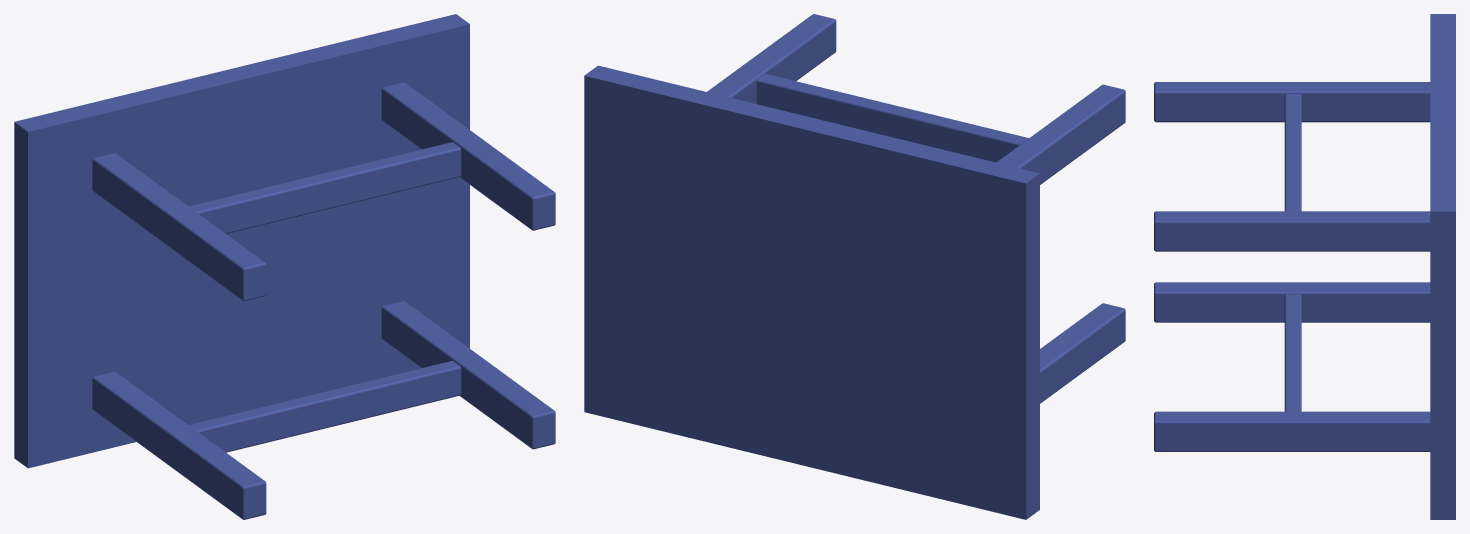
File: VIS_Table_11_2.dae
3 views of the same model, side by side, from view 1: azimuth 30°, elevation 25°; view 2: azimuth 150°, elevation 25°; view 3: azimuth 270°, elevation 25° (orthographic). The views are drawn at different scales.
Visible parts, largest first — view 1: VIS_Table_11_2; view 2: VIS_Table_11_2; view 3: VIS_Table_11_2.
Boxes of the visible parts, x1,y1,x2,y2 form: VIS_Table_11_2: (14, 14, 555, 519); VIS_Table_11_2: (584, 14, 1125, 519); VIS_Table_11_2: (1154, 14, 1455, 519).
Bounding box in the file's own units: 110 × 71 × 80.
